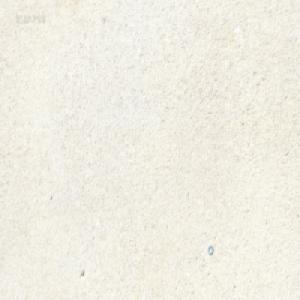Washer: (207, 244, 213, 255)
